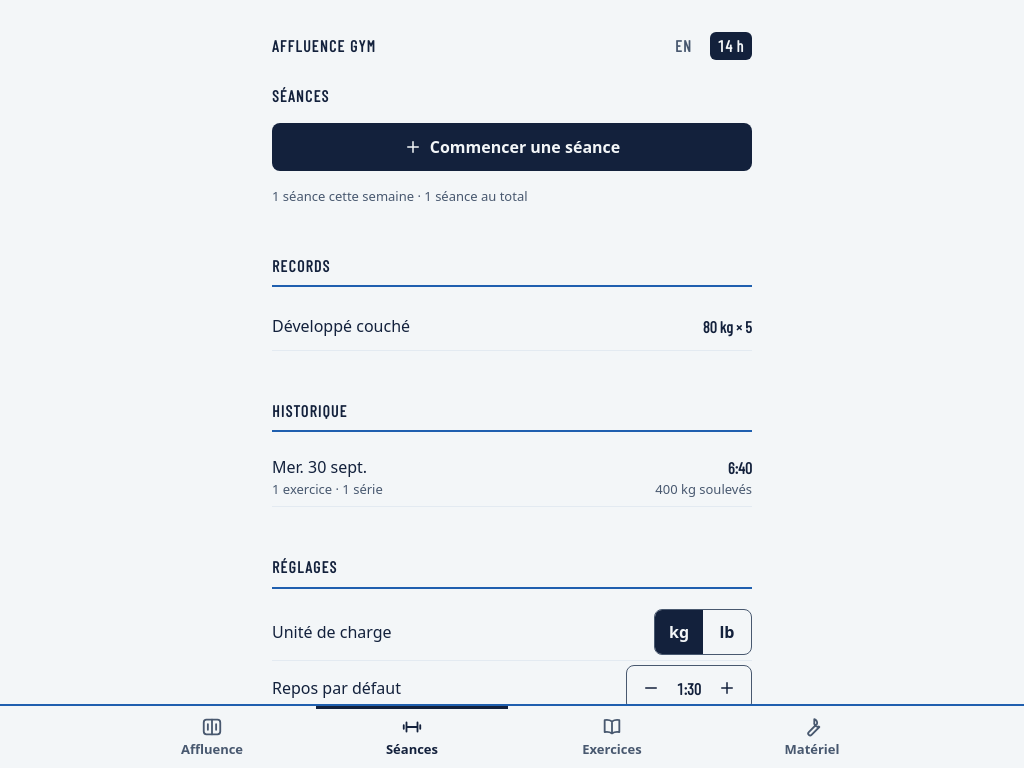
it: séances › préremplit avec la dernière performance et l'affiche
The image size is (1024, 768).
Click the button "Commencer une séance". click: (512, 147)
box: [272,123,752,171]
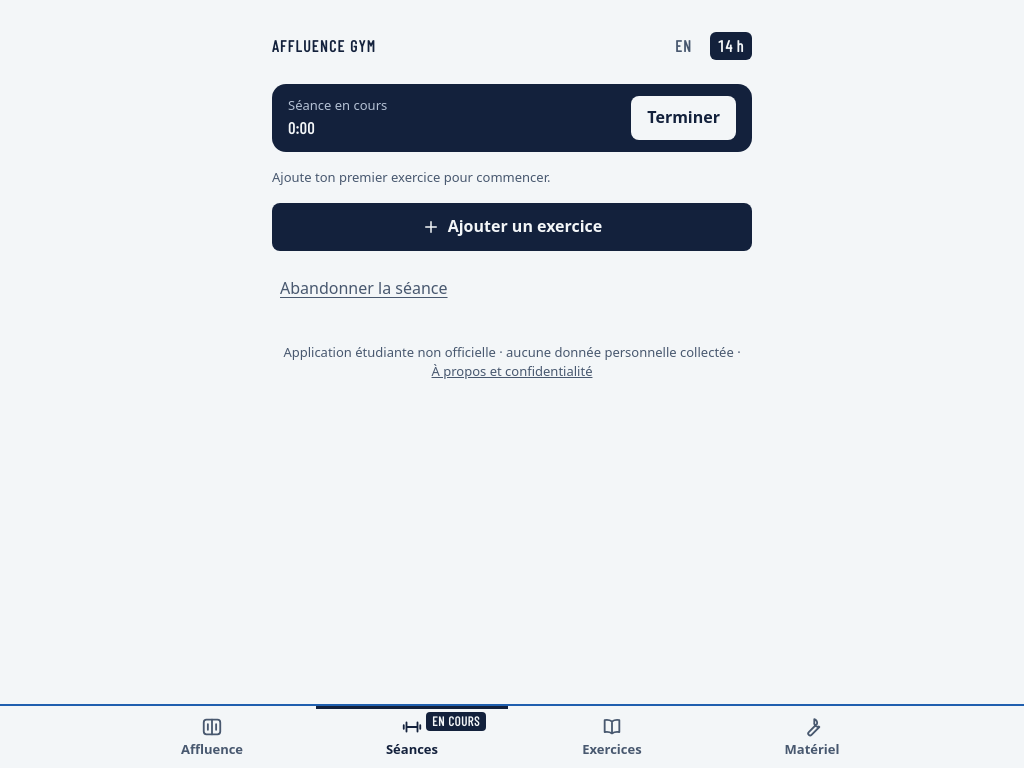
Click the button "Ajouter un exercice". click: (512, 227)
box: [272,203,752,251]
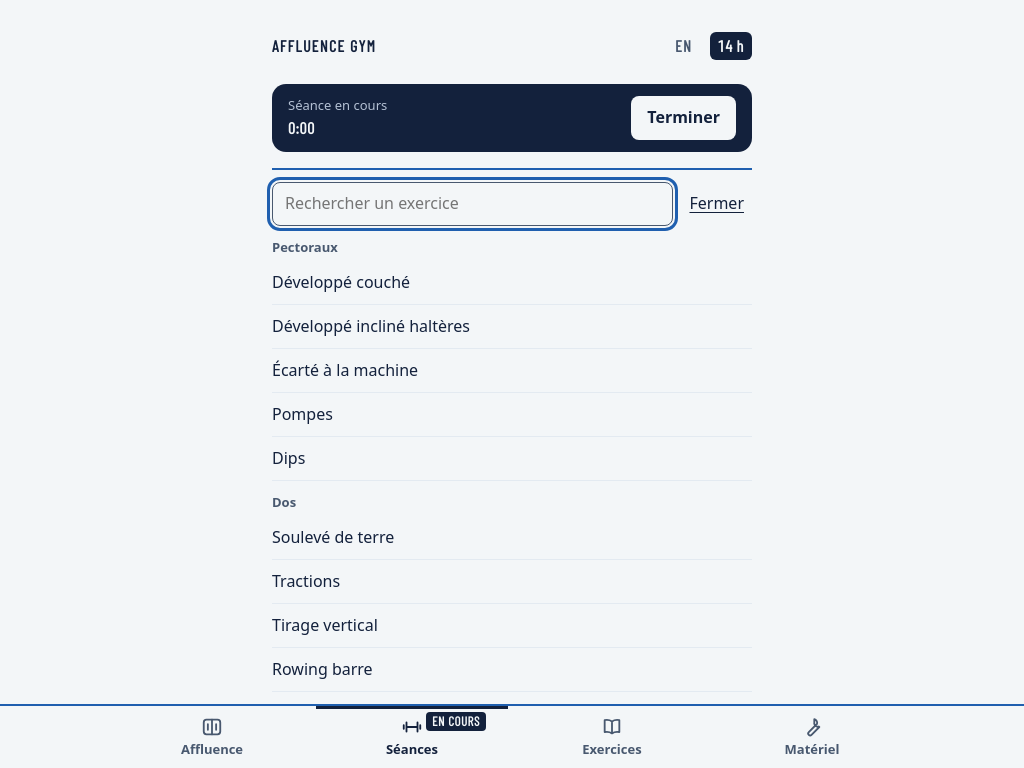
Type "couché" into the search field labelled "Rechercher un exercice". click: (473, 204)
box: [272,182,674,226]
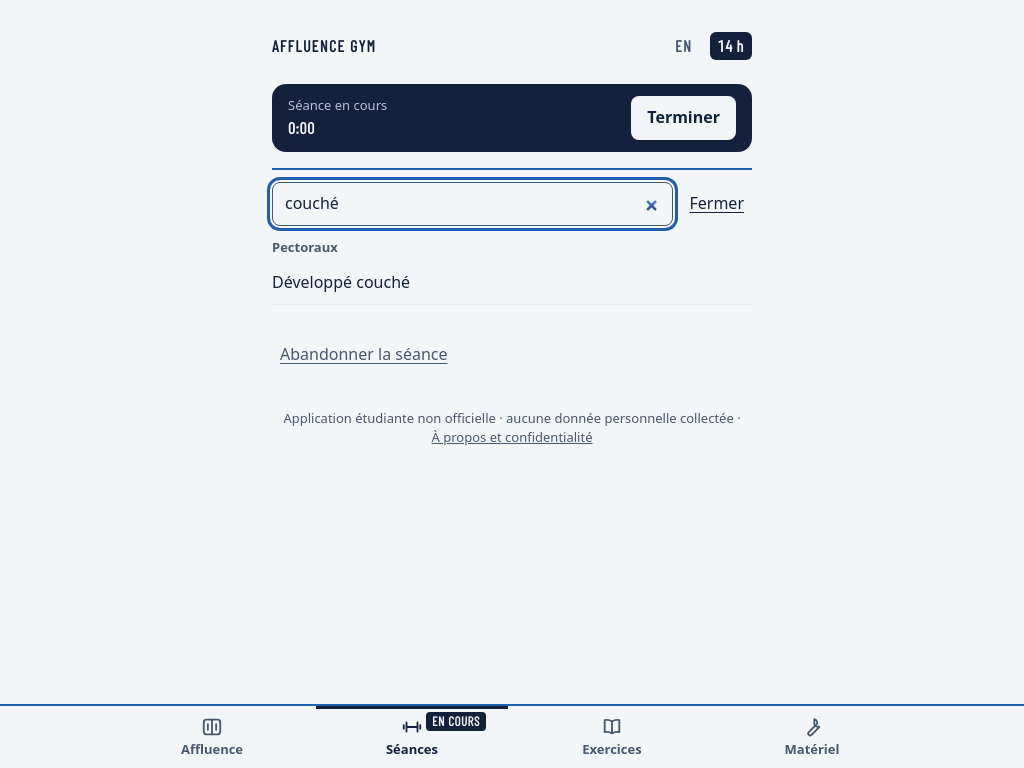
Click the button "Développé couché". click: (341, 282)
box: [272,261,752,305]
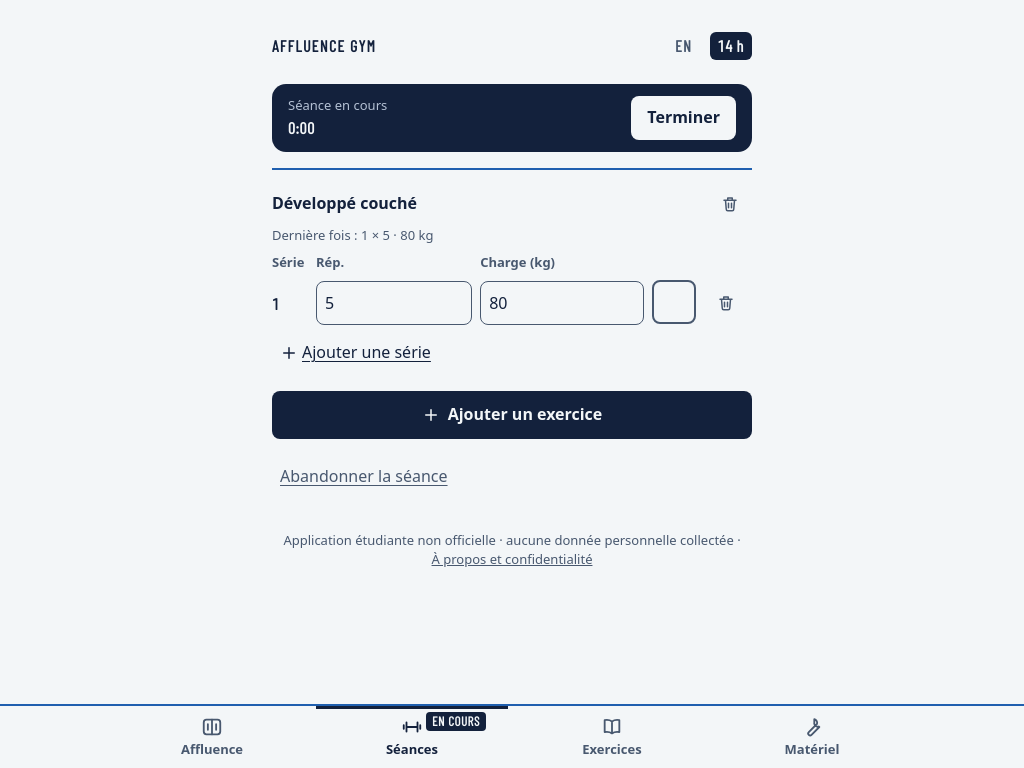
Expected: the text "Dernière fois : 1 × 5 · 80 kg" is shown, [272,226,433,244]
Expected: the number field named "Développé couché · Série 1 · Charge (kg)" holds "80", [480,281,644,325]
